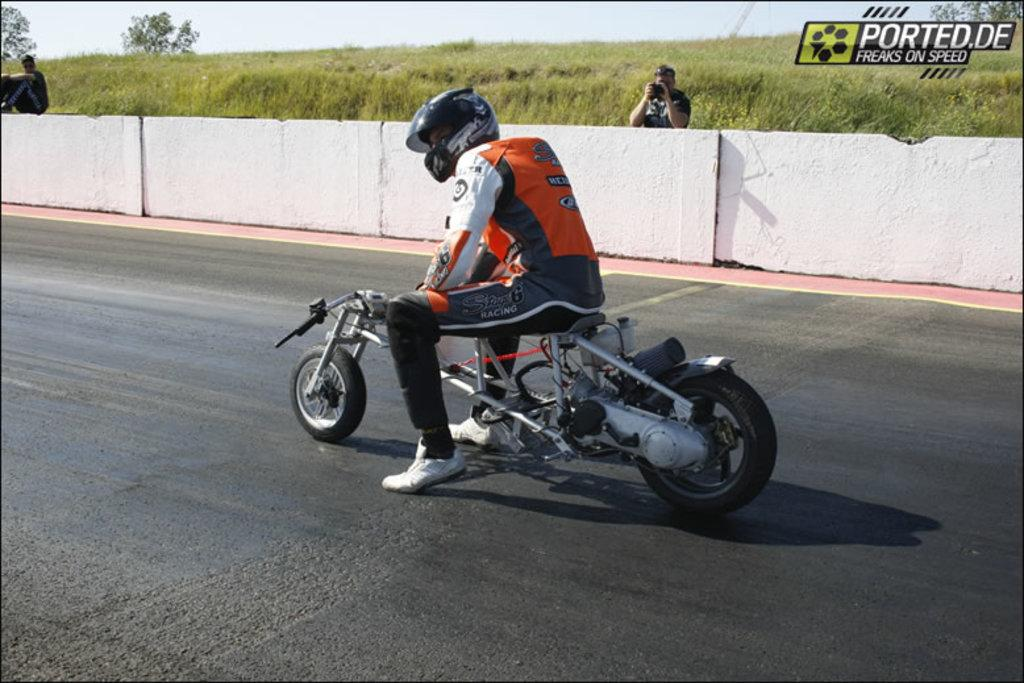helmet: (405, 87, 500, 184)
